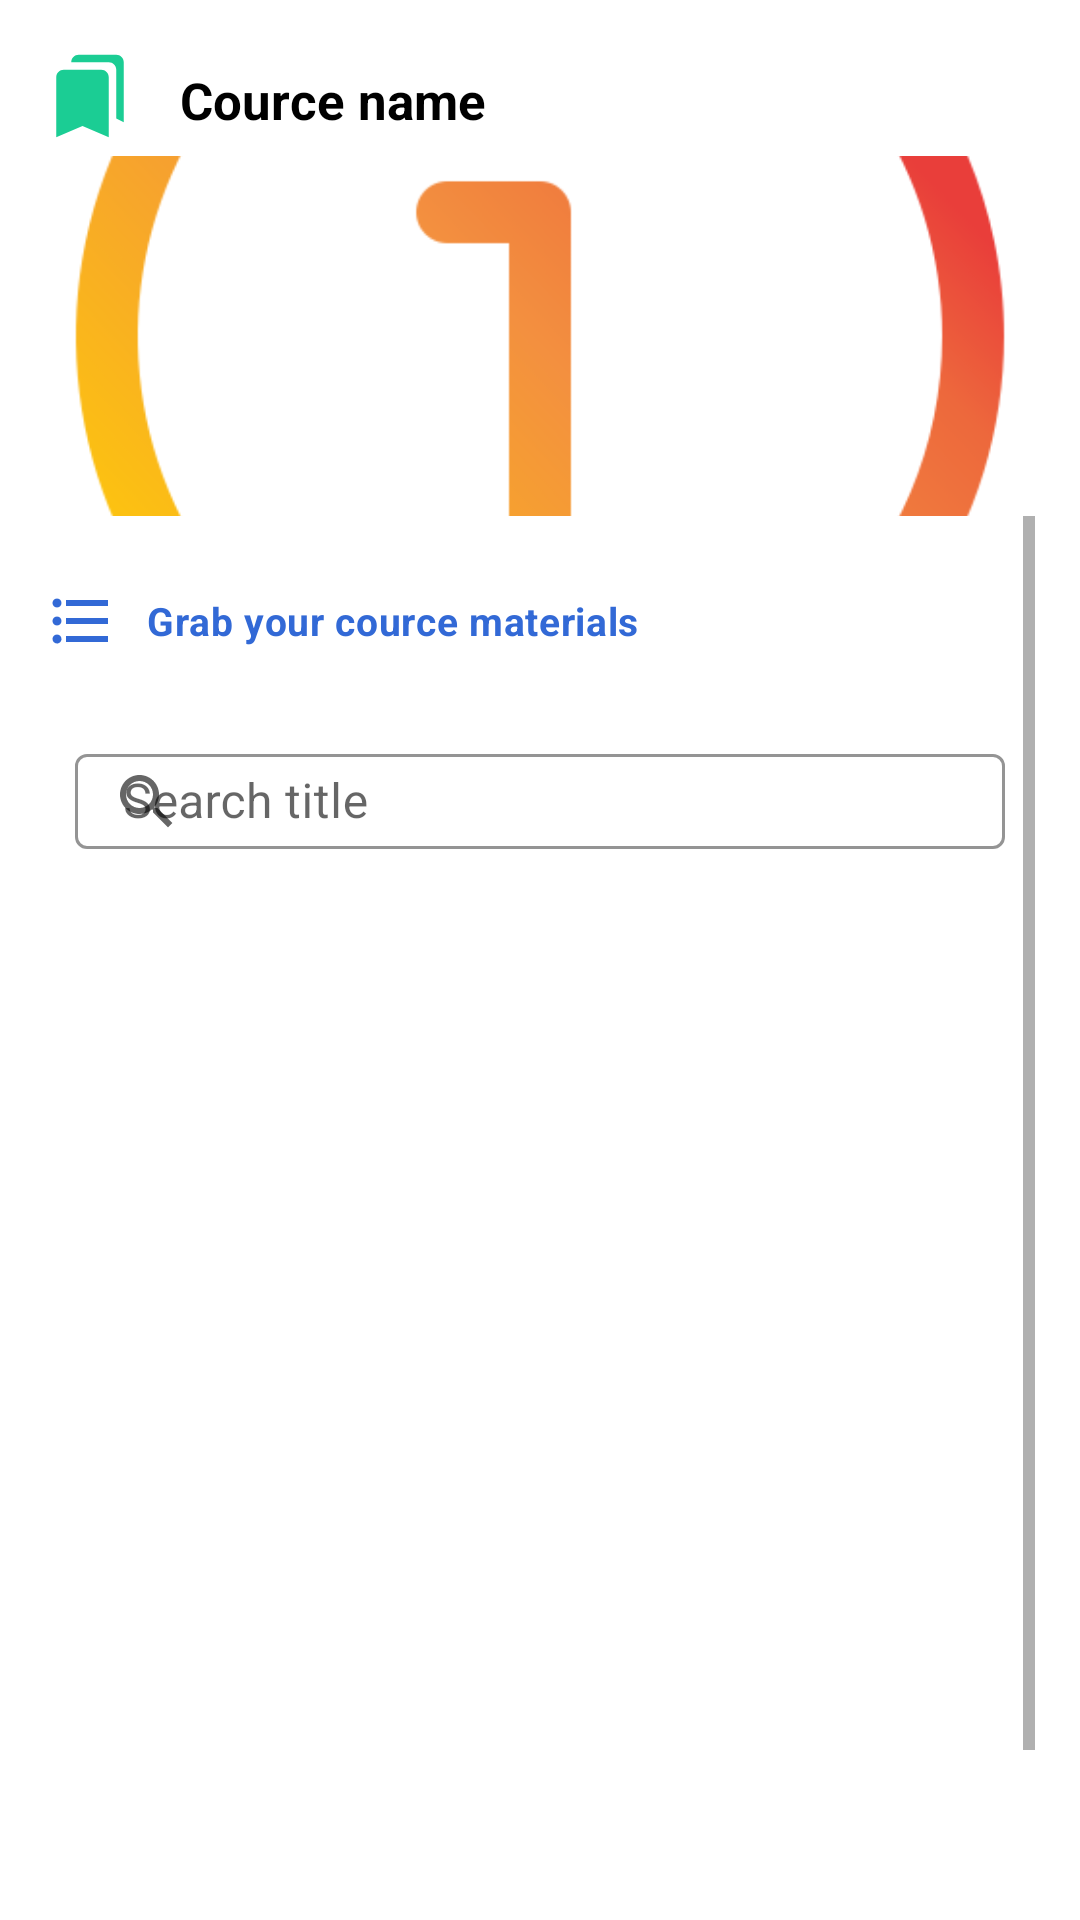

Screen size 1080 × 1920. Icon name, then its box in pixels as (x1=x1, y1=y1, x2=x2, y2=y2):
format list bulleted: (x1=52, y1=598, x2=108, y2=644)
